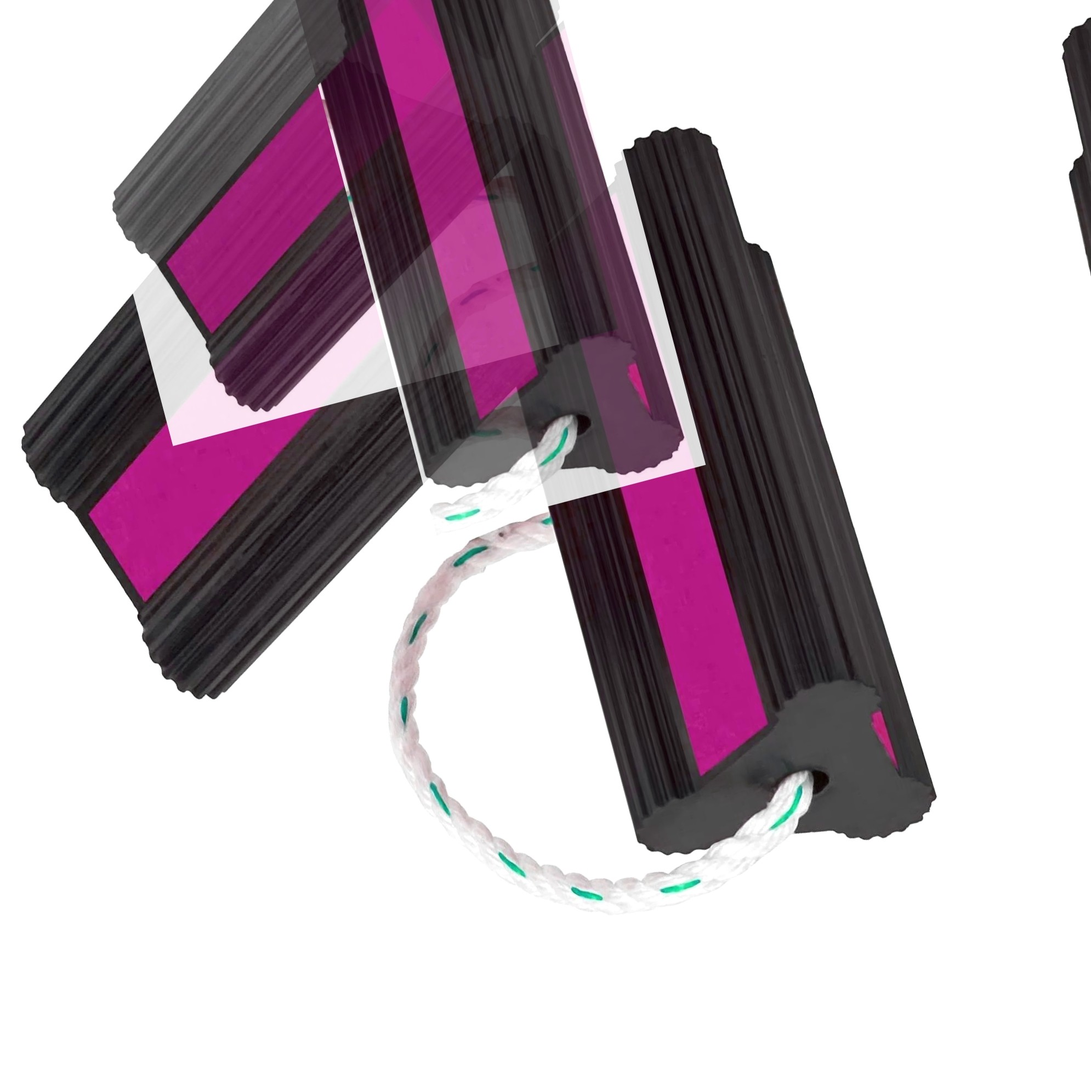chock: (0, 2, 681, 742), (458, 99, 961, 910), (49, 0, 643, 446), (271, 0, 706, 536)
